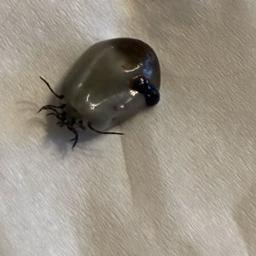Ixodes scapularis: (39, 36, 163, 150)
